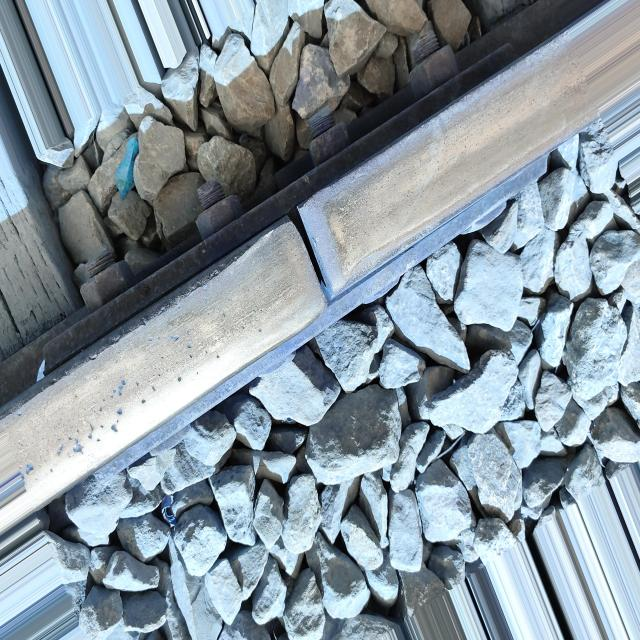crack: (261, 195, 362, 330)
